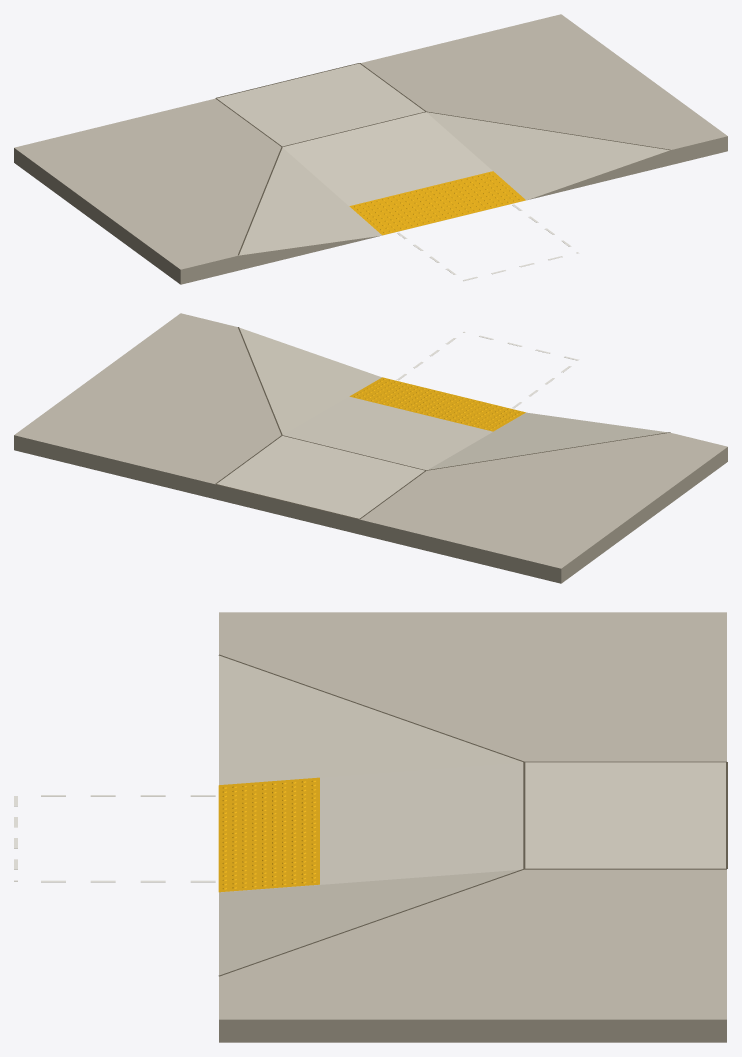
The model's file is ramp-422a.glb.
3 views of the same model, one above another, from view 1: azimuth 30°, elevation 25°; view 2: azimuth 150°, elevation 25°; view 3: azimuth 270°, elevation 25° (orthographic). The views are drawn at different scales.
Parts seen in each view (by area): view 1: Seattle Type 422A curb ramp (wings); view 2: Seattle Type 422A curb ramp (wings); view 3: Seattle Type 422A curb ramp (wings).
Boxes of the visible parts, <box> form: Seattle Type 422A curb ramp (wings): <box>14,14,727,284</box>; Seattle Type 422A curb ramp (wings): <box>14,313,727,583</box>; Seattle Type 422A curb ramp (wings): <box>14,612,727,1042</box>.
Size of the model in its own units: 5.79 by 0.1554 by 4.29.
